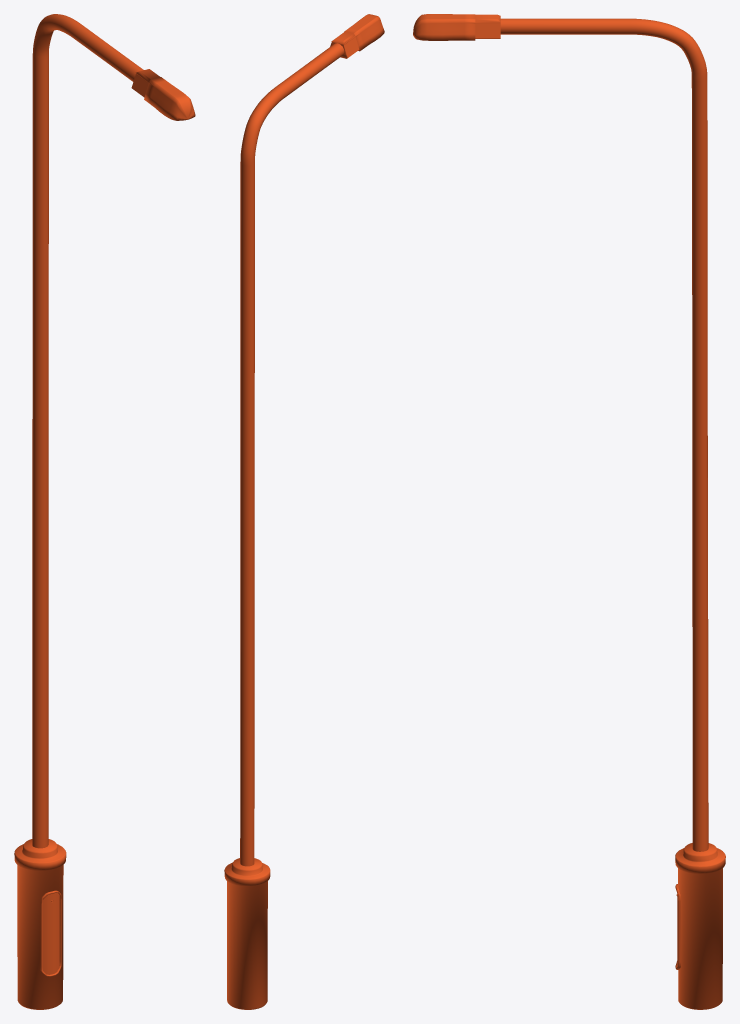
Rendered from Lamp-post.fbx.
3 renders of one model, left to right at view 1: azimuth 30°, elevation 25°; view 2: azimuth 150°, elevation 25°; view 3: azimuth 270°, elevation 25°, orthographic. The views are drawn at different scales.
Visible parts, largest first — view 1: Lamp-post; view 2: Lamp-post; view 3: Lamp-post.
Boxes of the visible parts, <box> form: Lamp-post: <box>14,14,195,1009</box>; Lamp-post: <box>224,14,384,1009</box>; Lamp-post: <box>413,14,725,1009</box>.
Size of the model in its own units: 17.74 by 380 by 109.
